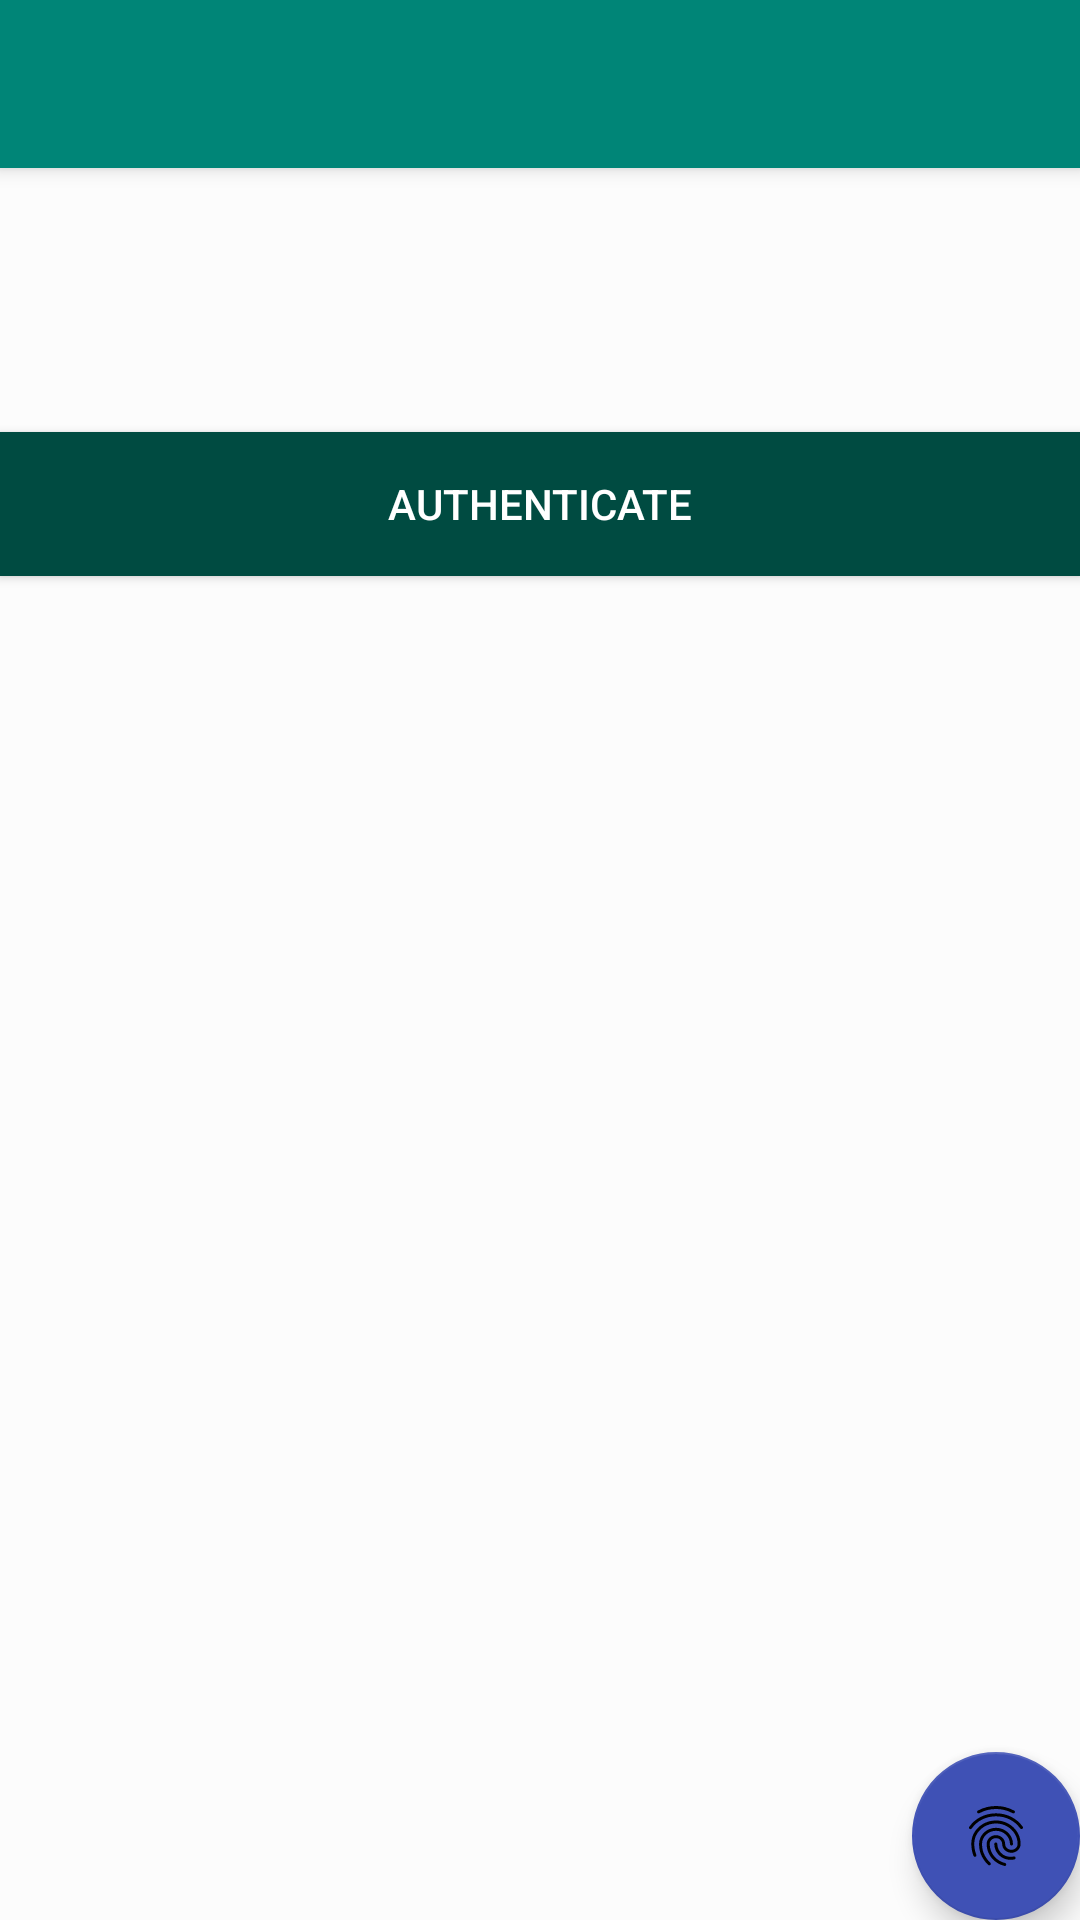

Locate icon controls on the screen. Image size 1080 × 1920, boxes as [x1, y1, x2, y2].
fingerprint: [912, 1752, 1080, 1920]
